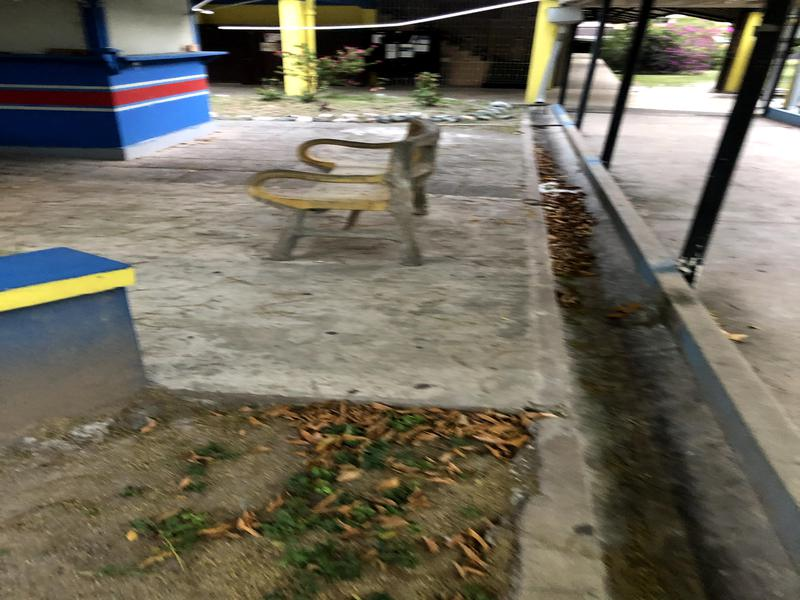18.0050864_-76.7496363_bench: (250, 109, 462, 274)
